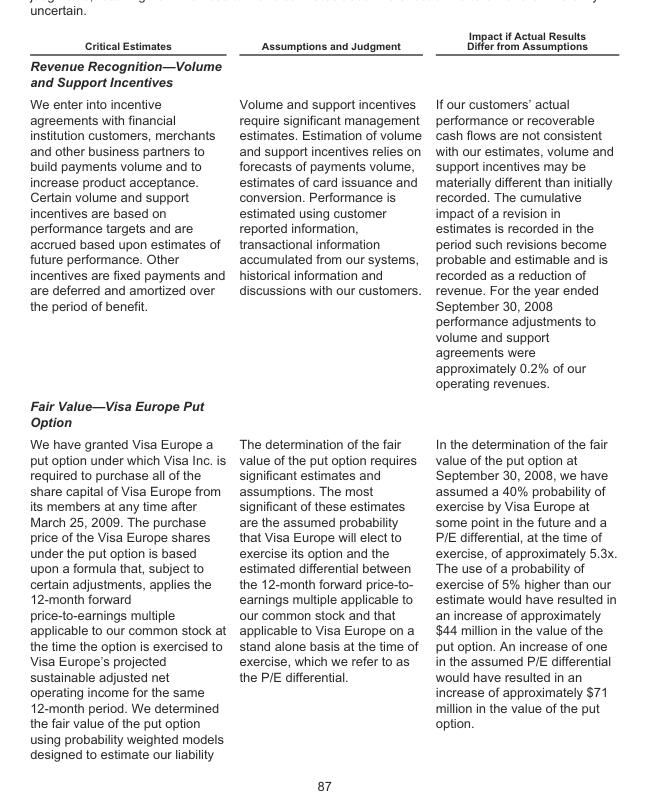table: (29, 29, 616, 761)
table column: (29, 29, 231, 761), (231, 29, 427, 761), (427, 29, 616, 761)
table column header: (29, 29, 616, 54)
table projected row header: (29, 54, 616, 92), (29, 394, 616, 432)
table row: (29, 432, 616, 761), (29, 92, 616, 394), (29, 54, 616, 92), (29, 394, 616, 432), (29, 29, 616, 54)
